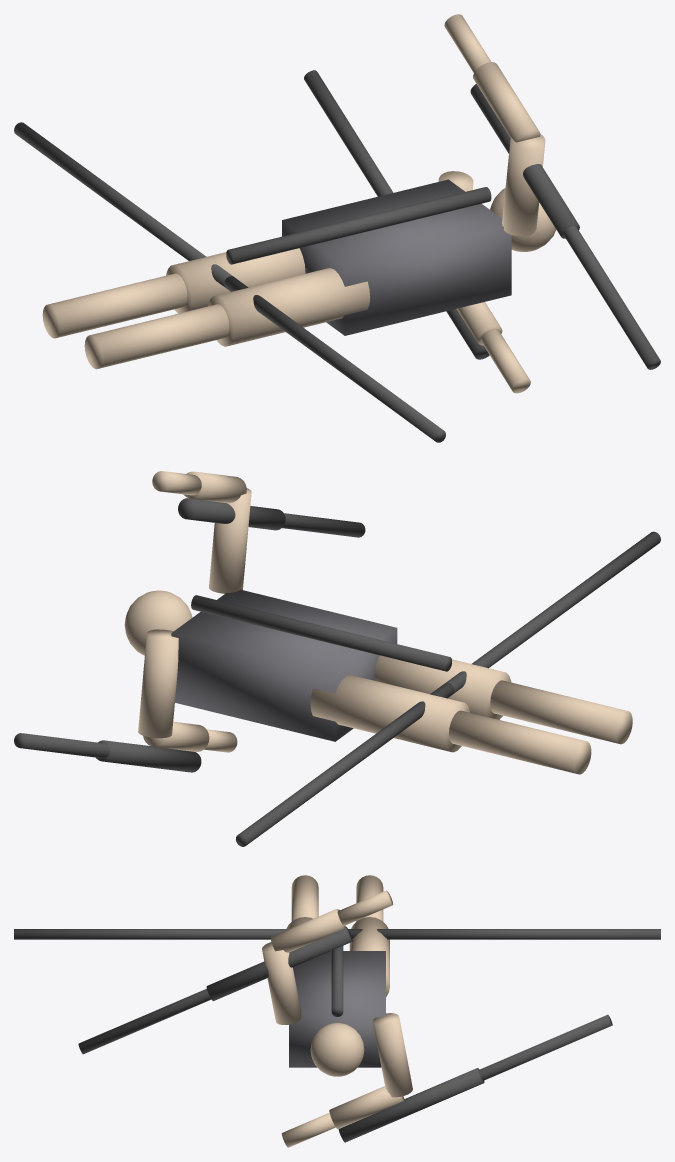
Rendered from animation.glb.
3 renders of one model, top to bottom at view 1: azimuth 30°, elevation 25°; view 2: azimuth 150°, elevation 25°; view 3: azimuth 270°, elevation 25°, orthographic. The views are drawn at different scales.
Visible parts, largest first — view 1: torso_g, ul_L, ll_R, ll_L, spine_yoke, ul_R, te1_R_g, te1_L_g, ua_L, tip1_L_g, fa_L, le_spar_L (+6 smaller); view 2: torso_g, ul_R, ll_L, ll_R, spine_yoke, ul_L, ua_R, te1_L_g, te1_R_g, ua_L, head_g, le_spar_R (+7 smaller); view 3: torso_g, te1_L_g, te1_R_g, le_spar_R, head_g, ua_R, le_spar_L, ua_L, tip1_R_g, tip1_L_g, fa_L, fa_R (+6 smaller).
Part boxes in pixels (x1=…): torso_g: x1=282, y1=179, x2=511, y2=335; ul_L: x1=208, y1=268, x2=370, y2=346; ll_R: x1=42, y1=273, x2=187, y2=338; ll_L: x1=84, y1=304, x2=229, y2=369; spine_yoke: x1=226, y1=187, x2=491, y2=264; ul_R: x1=166, y1=248, x2=305, y2=313; te1_R_g: x1=224, y1=276, x2=445, y2=442; te1_L_g: x1=14, y1=122, x2=232, y2=286; ua_L: x1=502, y1=134, x2=545, y2=236; tip1_L_g: x1=563, y1=226, x2=660, y2=369; fa_L: x1=473, y1=62, x2=540, y2=142; le_spar_L: x1=470, y1=84, x2=579, y2=238; torso_g: x1=171, y1=589, x2=397, y2=741; ul_R: x1=310, y1=675, x2=469, y2=752; ll_L: x1=490, y1=680, x2=632, y2=744; ll_R: x1=449, y1=710, x2=591, y2=774; spine_yoke: x1=191, y1=595, x2=451, y2=671; ul_L: x1=374, y1=655, x2=511, y2=719; ua_R: x1=138, y1=629, x2=178, y2=738; te1_L_g: x1=236, y1=683, x2=454, y2=846; te1_R_g: x1=446, y1=531, x2=660, y2=693; ua_L: x1=209, y1=488, x2=251, y2=593; head_g: x1=124, y1=590, x2=192, y2=655; le_spar_R: x1=96, y1=740, x2=201, y2=772; torso_g: x1=289, y1=951, x2=385, y2=1067; te1_L_g: x1=348, y1=929, x2=660, y2=939; te1_R_g: x1=14, y1=929, x2=288, y2=939; le_spar_R: x1=338, y1=1068, x2=484, y2=1142; head_g: x1=310, y1=1023, x2=364, y2=1076; ua_R: x1=372, y1=1013, x2=412, y2=1097; le_spar_L: x1=206, y1=926, x2=352, y2=1001; ua_L: x1=262, y1=942, x2=301, y2=1024; tip1_R_g: x1=478, y1=1014, x2=612, y2=1080; tip1_L_g: x1=78, y1=988, x2=211, y2=1054; fa_L: x1=270, y1=909, x2=345, y2=952; fa_R: x1=329, y1=1086, x2=404, y2=1129.
Size of the model in its own units: 1.59 by 1.05 by 2.4.
